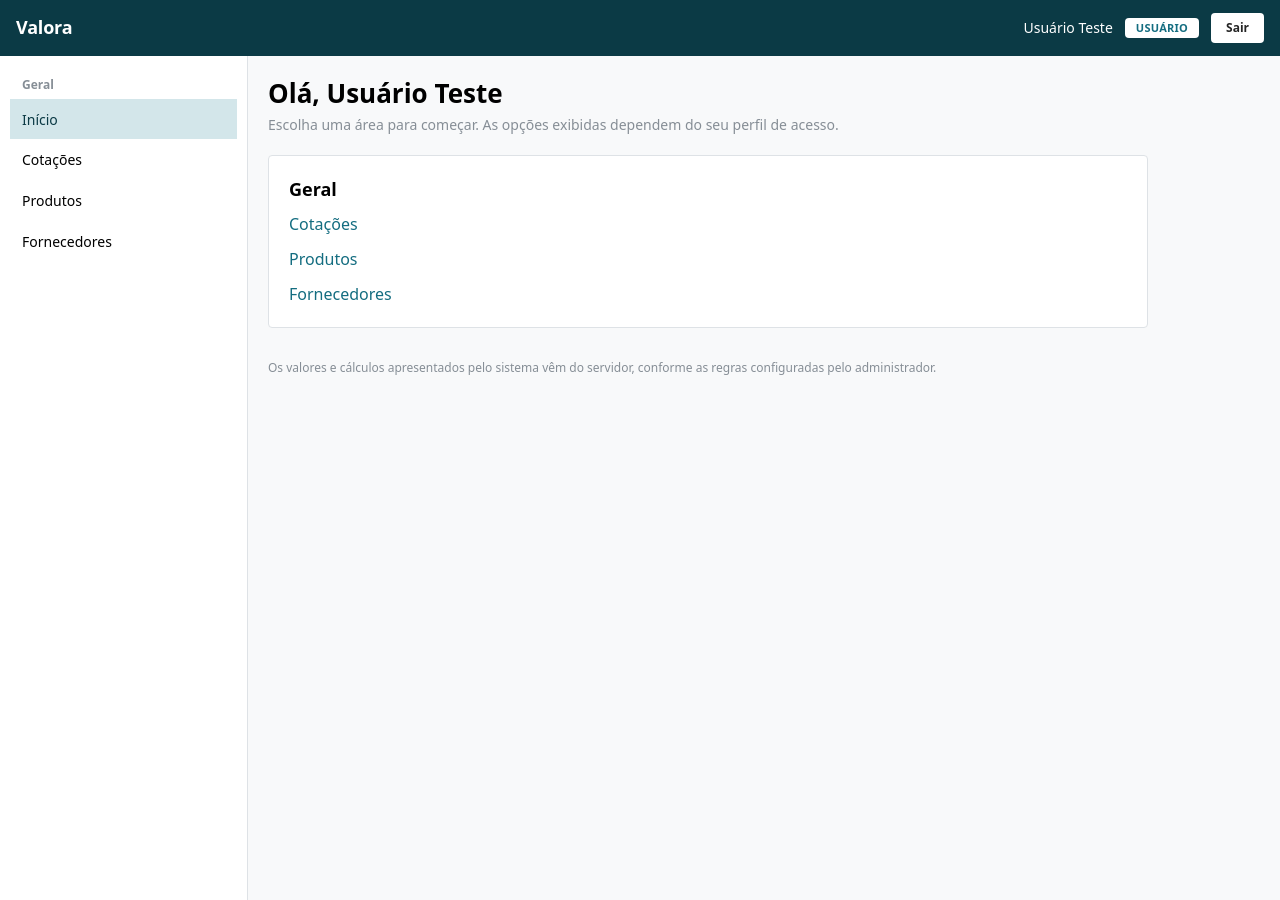
Test: navegação para produtos e fornecedores › USER acessa Produtos e Fornecedores pelo menu, sem o menu administrativo
Expected: the navigation bar named "Menu principal" does not show "Administração", 0,56 -> 248,899
Step 1. Click the link "Produtos" below "Início" → point(52, 201), box 22,191 -> 82,210
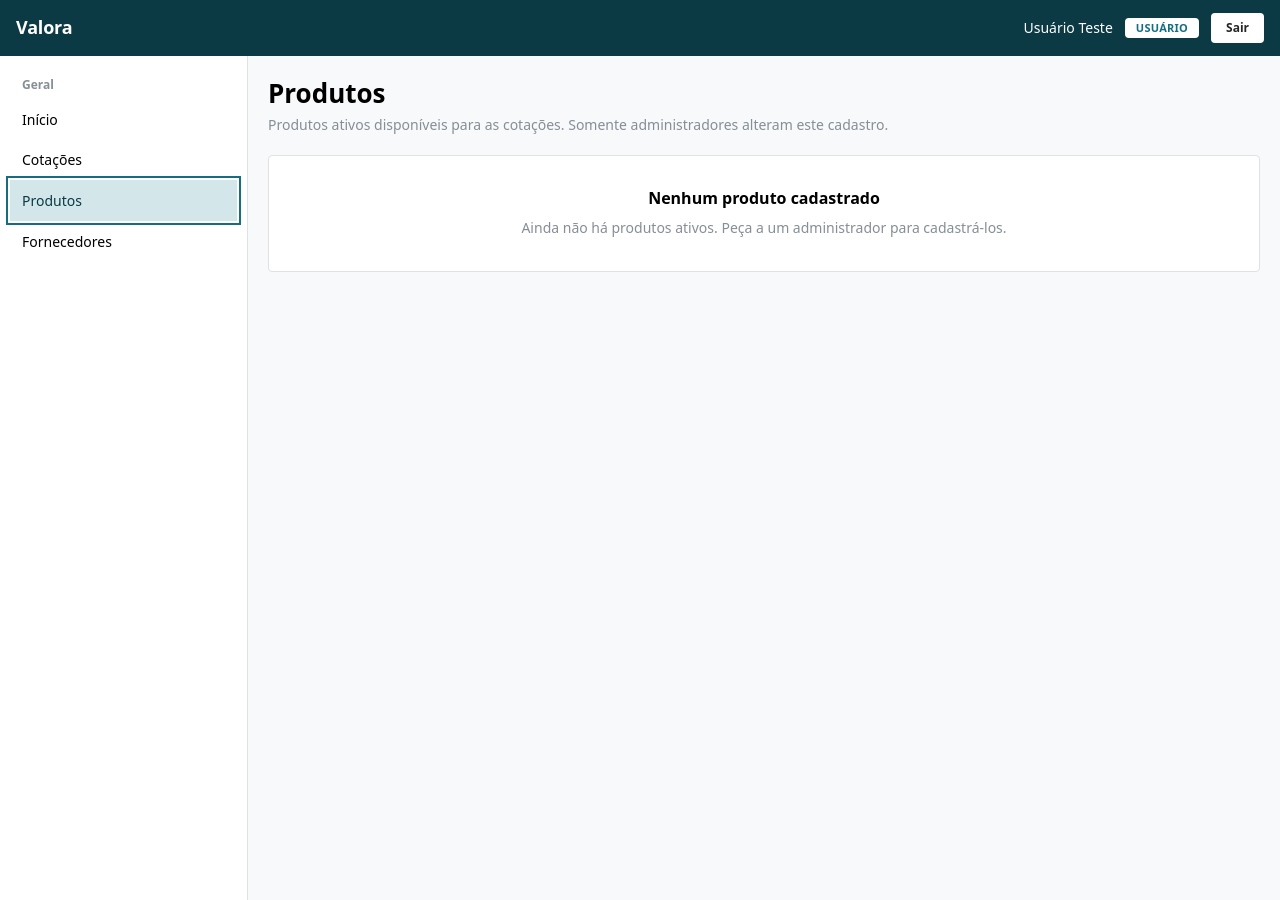
Now the heading "Produtos" is shown, box 268,75 -> 386,111
Step 2. Click the link "Fornecedores" → point(67, 242), box 22,232 -> 112,251
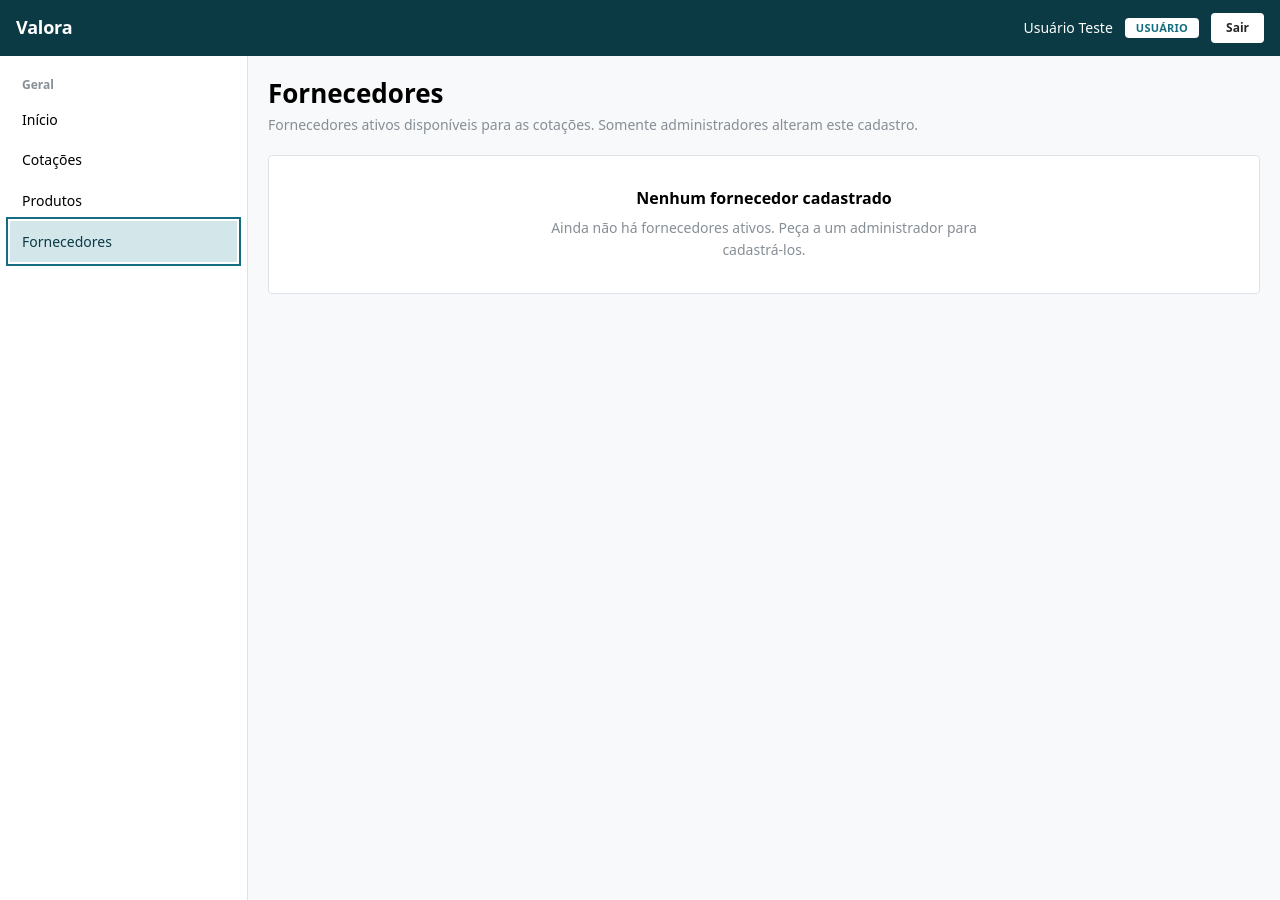
Now the heading "Fornecedores" is shown, box 268,75 -> 444,111
Now the text "Nenhum fornecedor cadastrado" is shown, box 636,188 -> 892,209
